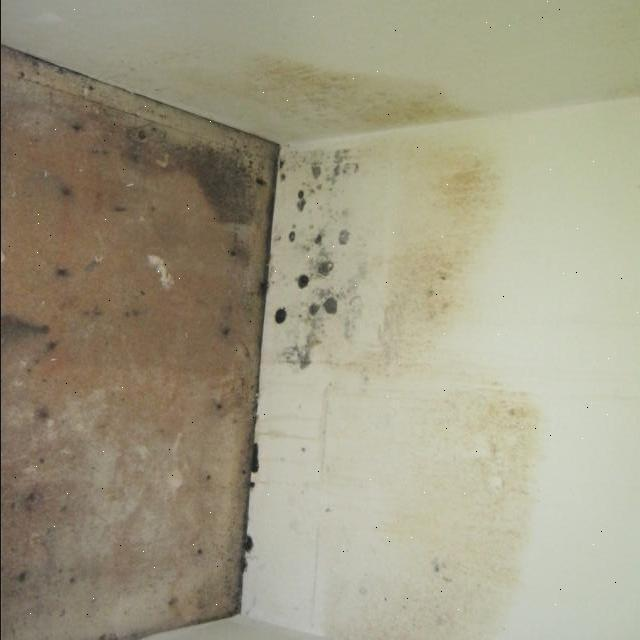dampens: (2, 43, 304, 570), (284, 135, 368, 389)
